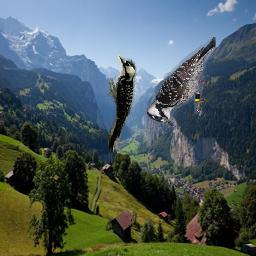Woodpecker: (146, 37, 217, 127), (103, 53, 140, 160)
